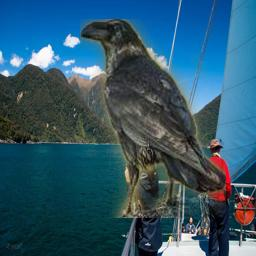Crow: (80, 19, 226, 218)
